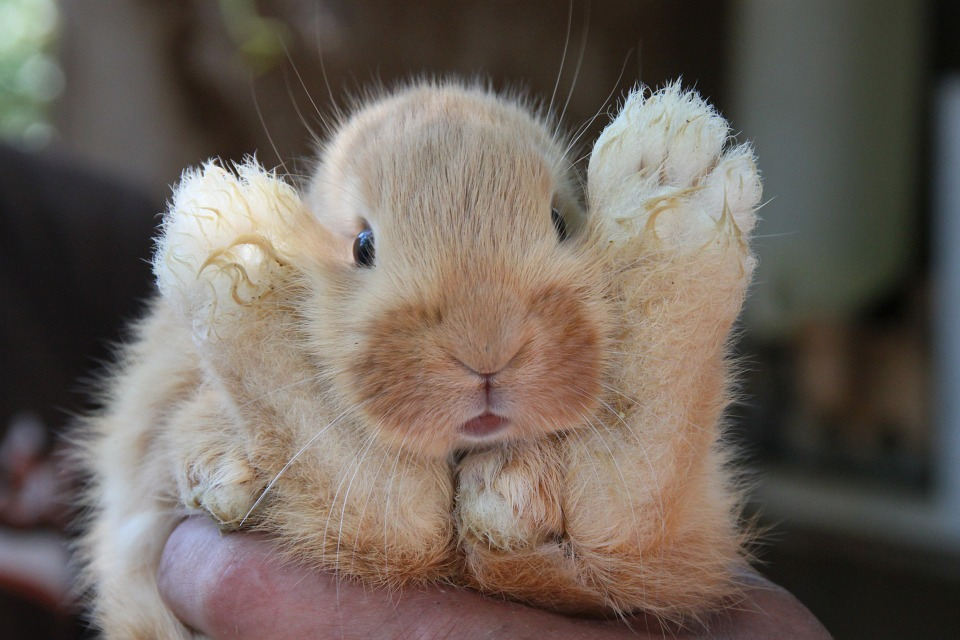bunny: (54, 58, 774, 640)
